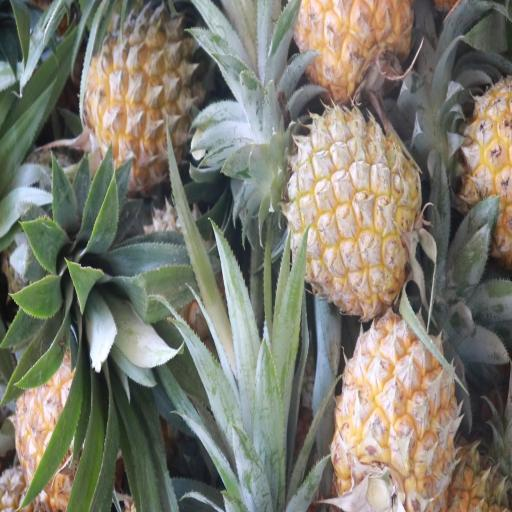------------------------------: (82, 5, 204, 190)
Pineapple - v8 v1: (287, 108, 419, 315), (332, 305, 457, 512), (428, 58, 512, 257)
